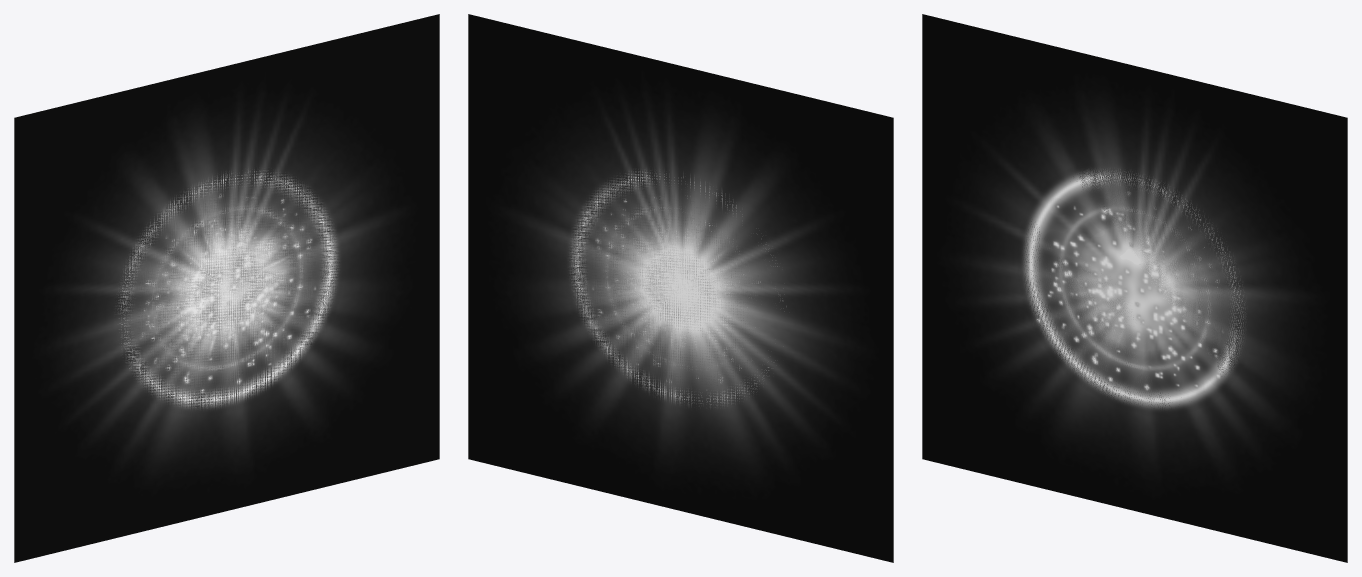
Rendered from si_eah_0200.glb.
The picture shows the model from 3 angles, left to right: view 1: azimuth 30°, elevation 25°; view 2: azimuth 150°, elevation 25°; view 3: azimuth 330°, elevation 25°; orthographic projection.
Visible parts, largest first — view 1: layer_00_si_est_0003, layer_03_si_est_0404, layer_02_si_est_0403, layer_01_si_est_0200; view 2: layer_00_si_est_0003, layer_03_si_est_0404, layer_02_si_est_0403, layer_01_si_est_0200; view 3: layer_00_si_est_0003, layer_03_si_est_0404, layer_01_si_est_0200, layer_02_si_est_0403.
Boxes of the visible parts, <box> form: layer_00_si_est_0003: <box>14,14,439,562</box>; layer_03_si_est_0404: <box>116,168,341,411</box>; layer_02_si_est_0403: <box>156,206,302,364</box>; layer_01_si_est_0200: <box>127,185,330,395</box>; layer_00_si_est_0003: <box>468,14,893,562</box>; layer_03_si_est_0404: <box>566,168,786,408</box>; layer_02_si_est_0403: <box>613,210,745,361</box>; layer_01_si_est_0200: <box>577,184,760,385</box>; layer_00_si_est_0003: <box>922,14,1347,562</box>; layer_03_si_est_0404: <box>1020,166,1247,412</box>; layer_01_si_est_0200: <box>1034,191,1234,394</box>; layer_02_si_est_0403: <box>1070,235,1177,345</box>.
Size of the model in its own units: 201 by 201 by 1.52e-05.
4 materials, 4 textured.
